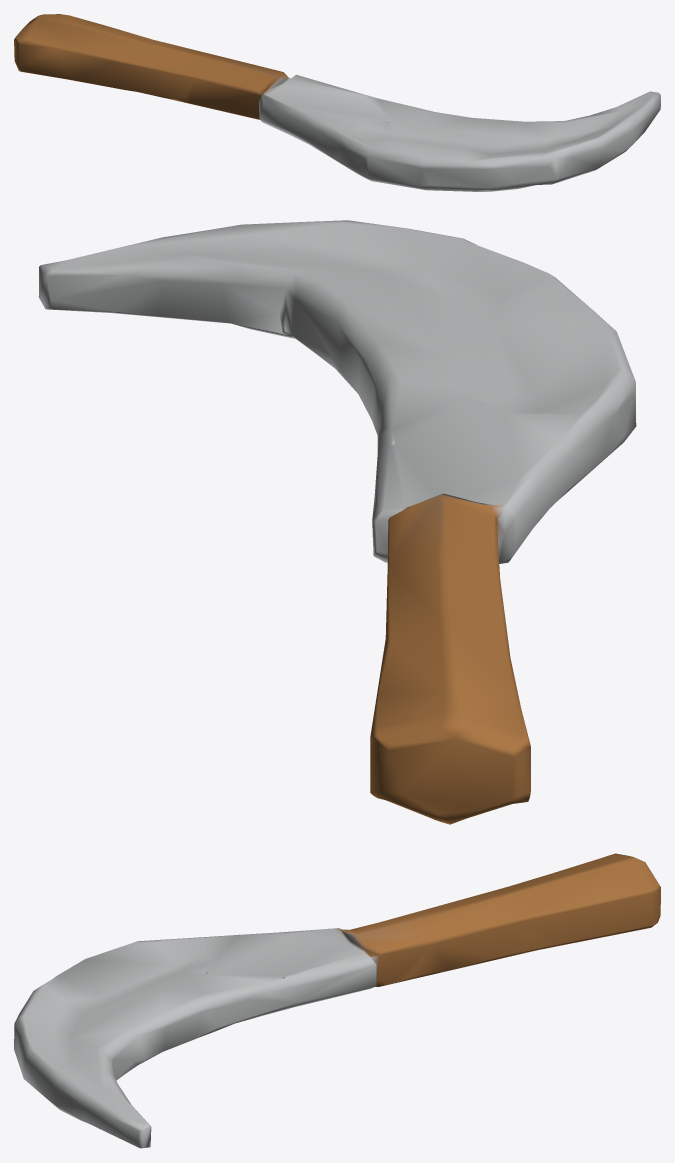
File: gen3d-sickle-lod1.glb
3 views of the same model, one above another, from view 1: azimuth 30°, elevation 25°; view 2: azimuth 150°, elevation 25°; view 3: azimuth 270°, elevation 25° (orthographic). The views are drawn at different scales.
Visible parts, largest first — view 1: part_0; view 2: part_0; view 3: part_0.
Part boxes in pixels (x1,y1,x2,y2): part_0: (14, 14, 660, 191); part_0: (38, 220, 636, 824); part_0: (14, 853, 660, 1148).
Size of the model in its own units: 8.39 by 0.9923 by 8.88.
